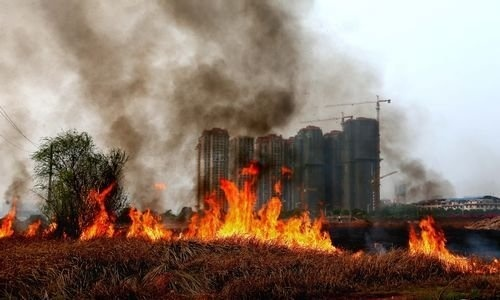fire: (180, 163, 351, 253), (406, 215, 497, 278), (78, 181, 123, 241), (1, 202, 64, 241)
